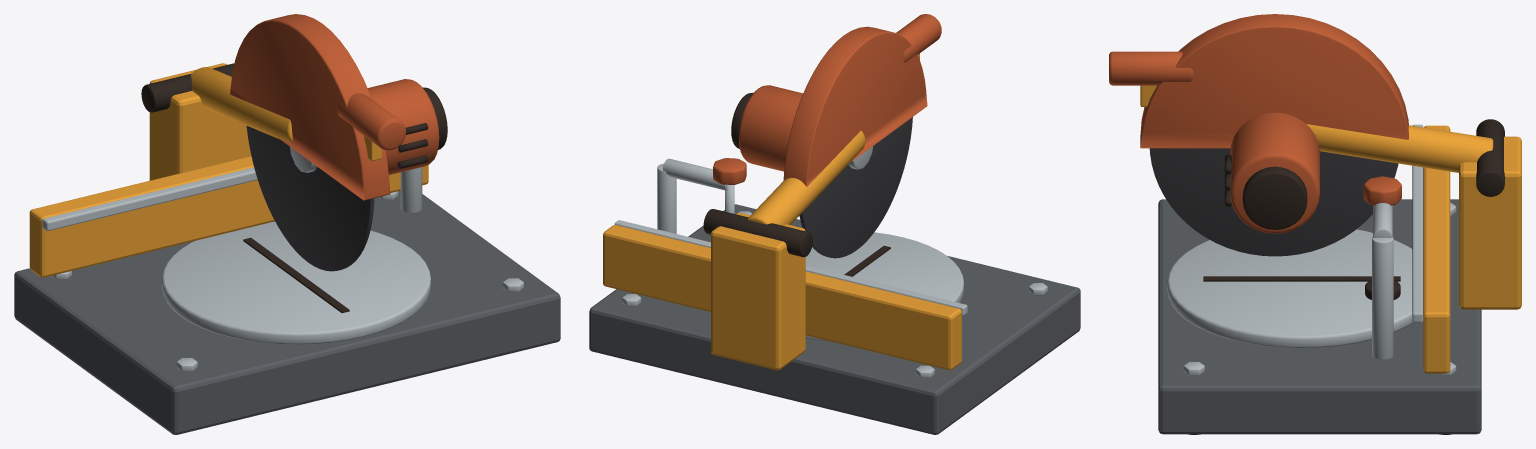
Rendered from chopsaw.glb.
The picture shows the model from 3 angles, left to right: view 1: azimuth 30°, elevation 25°; view 2: azimuth 150°, elevation 25°; view 3: azimuth 270°, elevation 25°; orthographic projection. The views are drawn at different scales.
Parts seen in each view (by area): view 1: CUT_base, CUT_turntable, CUT_guard, CUT_fence, CUT_blade, CUT_pivot_block, CUT_motor, CUT_fence_lip, CUT_arm, CUT_handle_grip, CUT_hinge_pin, CUT_blade_slot (+2 smaller); view 2: CUT_base, CUT_fence, CUT_guard, CUT_pivot_block, CUT_blade, CUT_turntable, CUT_motor, CUT_arm, CUT_hinge_pin, CUT_fence_lip, CUT_handle_grip, CUT_vise_post (+2 smaller); view 3: CUT_base, CUT_guard, CUT_turntable, CUT_blade, CUT_pivot_block, CUT_motor, CUT_fence, CUT_arm, CUT_motor_cap, CUT_vise_post, CUT_handle_grip, CUT_fence_lip (+4 smaller).
Part boxes in pixels (box(x1,y1,x2,y2)): CUT_base: box(14, 191, 560, 434); CUT_turntable: box(162, 221, 430, 344); CUT_guard: box(230, 14, 390, 200); CUT_fence: box(29, 156, 428, 277); CUT_blade: box(246, 126, 374, 271); CUT_pivot_block: box(149, 63, 251, 180); CUT_motor: box(367, 79, 439, 174); CUT_fence_lip: box(42, 167, 257, 230); CUT_arm: box(190, 67, 292, 143); CUT_handle_grip: box(337, 93, 406, 150); CUT_hinge_pin: box(141, 63, 234, 112); CUT_blade_slot: box(243, 237, 349, 313); CUT_base: box(589, 204, 1080, 434); CUT_fence: box(603, 225, 961, 370); CUT_guard: box(783, 26, 927, 186); CUT_pivot_block: box(711, 213, 805, 370); CUT_blade: box(799, 117, 912, 258); CUT_turntable: box(805, 232, 963, 341); CUT_motor: box(738, 85, 802, 171); CUT_arm: box(748, 130, 865, 225); CUT_hinge_pin: box(703, 209, 812, 257); CUT_fence_lip: box(614, 220, 967, 315); CUT_handle_grip: box(896, 14, 941, 62); CUT_vise_post: box(657, 163, 676, 233); CUT_base: box(1158, 199, 1481, 434); CUT_guard: box(1140, 14, 1408, 148); CUT_turntable: box(1167, 229, 1413, 348); CUT_blade: box(1149, 148, 1398, 256); CUT_pivot_block: box(1459, 136, 1521, 309); CUT_motor: box(1230, 112, 1319, 233); CUT_fence: box(1423, 125, 1450, 373); CUT_arm: box(1306, 124, 1493, 172); CUT_motor_cap: box(1242, 166, 1307, 229); CUT_vise_post: box(1372, 237, 1393, 360); CUT_handle_grip: box(1109, 51, 1193, 85); CUT_fence_lip: box(1412, 124, 1423, 322).
Bounding box in the file's own units: 0.5 × 0.403 × 0.46.
